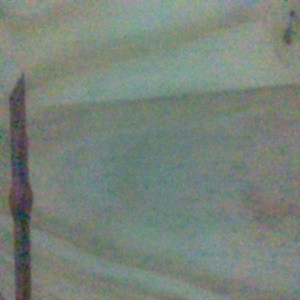cutter: (6, 71, 35, 300)
